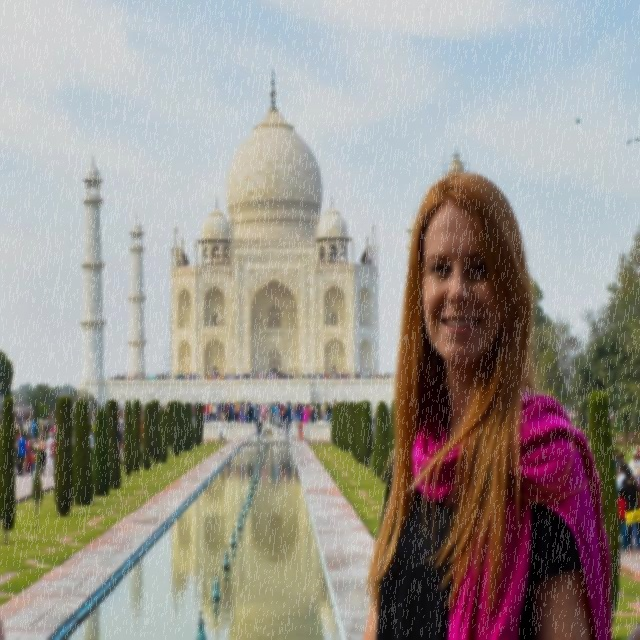pessoa: (360, 170, 617, 639), (189, 396, 339, 424), (103, 368, 399, 382), (617, 466, 639, 556), (620, 464, 638, 550), (10, 410, 58, 438), (616, 485, 631, 552), (22, 432, 33, 477), (45, 430, 55, 477), (17, 431, 27, 477), (49, 434, 60, 474), (114, 416, 126, 452), (37, 436, 47, 476), (628, 449, 639, 484), (86, 414, 96, 452), (14, 432, 22, 476), (634, 440, 640, 488), (612, 446, 622, 469), (218, 417, 226, 445), (296, 417, 304, 441), (286, 402, 294, 426), (302, 404, 311, 424), (255, 417, 262, 442), (29, 451, 36, 476), (284, 418, 290, 444), (620, 452, 628, 471), (234, 400, 240, 424), (205, 400, 211, 422), (226, 402, 232, 424), (208, 402, 214, 422), (212, 402, 218, 422), (326, 402, 332, 422), (310, 406, 316, 423), (202, 402, 206, 422), (220, 402, 225, 414)
